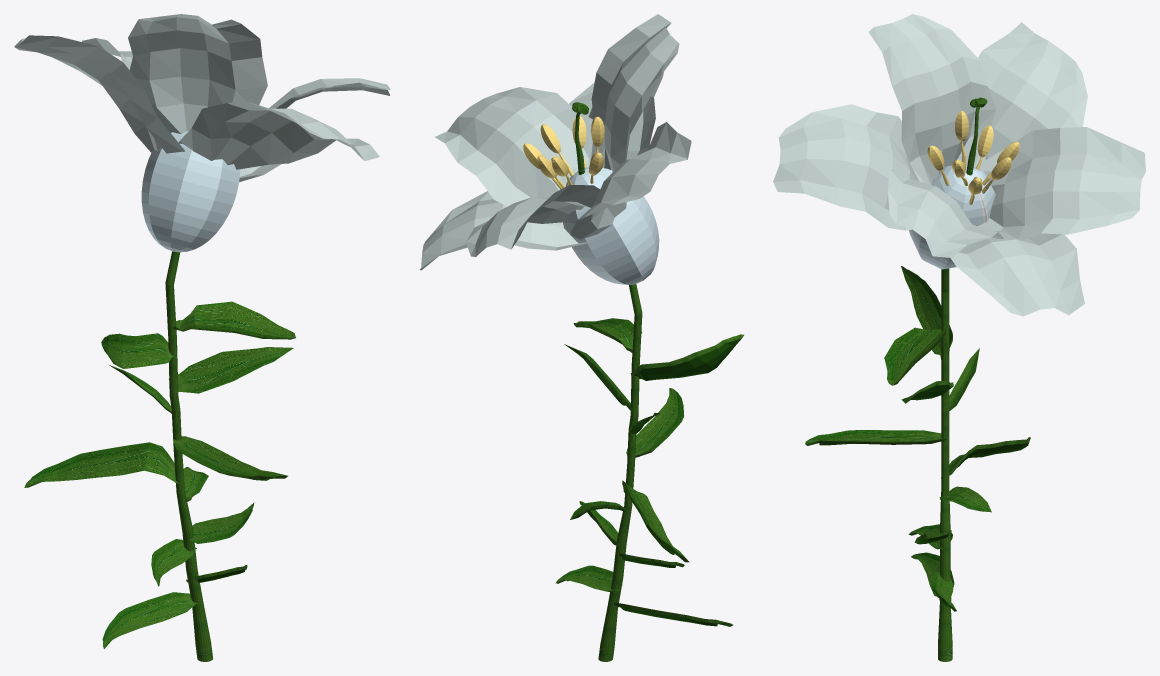
Rendered from LilyModel.fbx.
3 renders of one model, left to right at view 1: azimuth 30°, elevation 25°; view 2: azimuth 150°, elevation 25°; view 3: azimuth 270°, elevation 25°, orthographic. The views are drawn at different scales.
Parts seen in each view (by area): view 1: LilyFlower; view 2: LilyFlower; view 3: LilyFlower.
Part boxes in pixels (<box>): LilyFlower: <box>14,14,390,661</box>; LilyFlower: <box>420,14,743,661</box>; LilyFlower: <box>773,14,1145,661</box>.
Size of the model in its own units: 45.99 by 92.43 by 50.39.
Materials: 4 (2 with a texture image).
